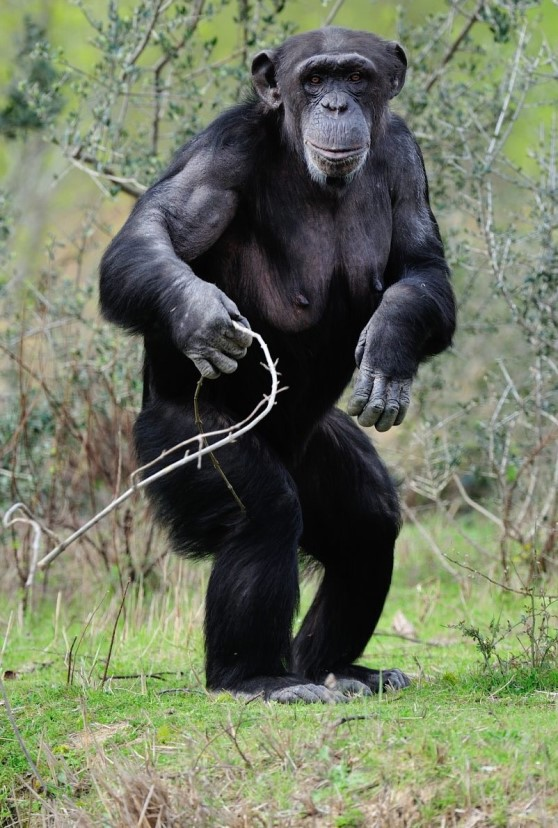Chimpanzee: (114, 26, 462, 703)
